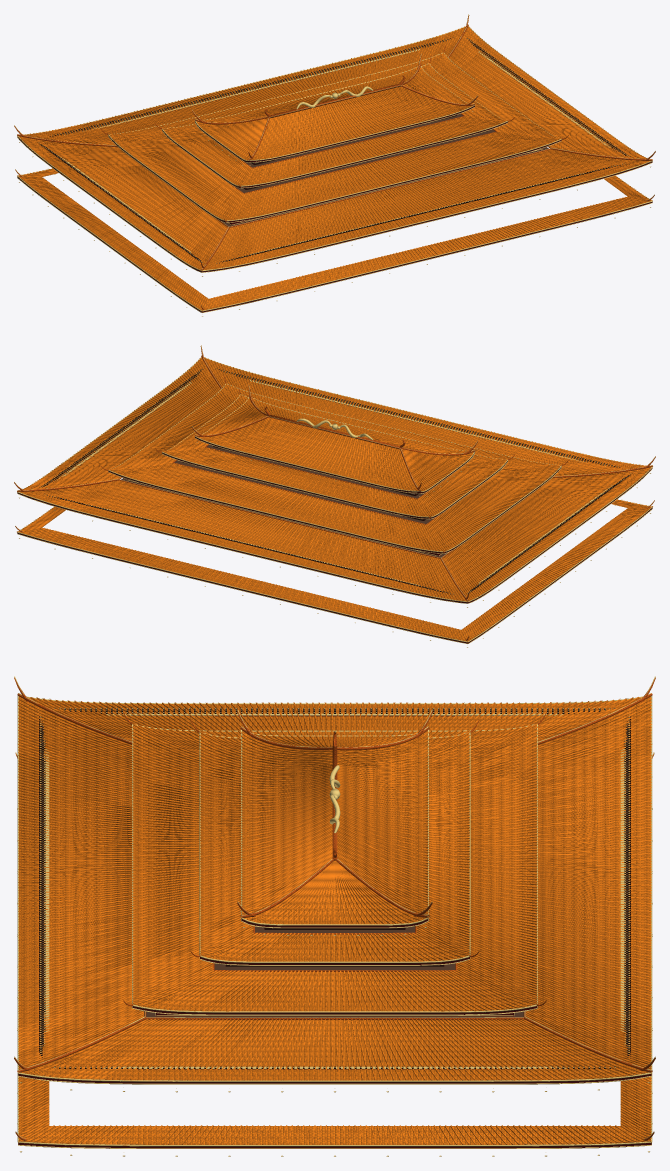
The picture shows the model from 3 angles, top to bottom: view 1: azimuth 30°, elevation 25°; view 2: azimuth 150°, elevation 25°; view 3: azimuth 270°, elevation 25°; orthographic projection. The views are drawn at different scales.
Visible parts, largest first — view 1: vb-sanctuary-grand-roof__Round cover tile - orange glaze, vb-sanctuary-grand-roof__Glazed roof tile 0, vb-sanctuary-grand-roof__Glazed roof tile 3, vb-sanctuary-grand-roof__Glazed roof tile 1, vb-sanctuary-grand-roof__Glazed roof tile 2, vb-sanctuary-grand-roof__Gold leaf, vb-sanctuary-grand-roof__Lim wood - deep umber, vb-sanctuary-grand-roof__Lacquer - imperial oxblood, vb-sanctuary-grand-roof__Ridge tile - deep orange glaze, vb-sanctuary-grand-roof__Roof underside - smoked timber; view 2: vb-sanctuary-grand-roof__Round cover tile - orange glaze, vb-sanctuary-grand-roof__Glazed roof tile 3, vb-sanctuary-grand-roof__Glazed roof tile 2, vb-sanctuary-grand-roof__Glazed roof tile 0, vb-sanctuary-grand-roof__Glazed roof tile 1, vb-sanctuary-grand-roof__Gold leaf, vb-sanctuary-grand-roof__Lim wood - deep umber, vb-sanctuary-grand-roof__Lacquer - imperial oxblood, vb-sanctuary-grand-roof__Ridge tile - deep orange glaze, vb-sanctuary-grand-roof__Roof underside - smoked timber; view 3: vb-sanctuary-grand-roof__Round cover tile - orange glaze, vb-sanctuary-grand-roof__Glazed roof tile 0, vb-sanctuary-grand-roof__Glazed roof tile 3, vb-sanctuary-grand-roof__Glazed roof tile 1, vb-sanctuary-grand-roof__Glazed roof tile 2, vb-sanctuary-grand-roof__Gold leaf, vb-sanctuary-grand-roof__Lim wood - deep umber, vb-sanctuary-grand-roof__Lacquer - imperial oxblood, vb-sanctuary-grand-roof__Ridge tile - deep orange glaze, vb-sanctuary-grand-roof__Roof underside - smoked timber.
Boxes of the visible parts, x1,y1,x2,y2 form: vb-sanctuary-grand-roof__Round cover tile - orange glaze: (17, 26, 652, 311); vb-sanctuary-grand-roof__Glazed roof tile 0: (19, 26, 648, 309); vb-sanctuary-grand-roof__Glazed roof tile 3: (24, 31, 650, 310); vb-sanctuary-grand-roof__Glazed roof tile 1: (18, 29, 646, 309); vb-sanctuary-grand-roof__Glazed roof tile 2: (23, 27, 646, 307); vb-sanctuary-grand-roof__Gold leaf: (14, 14, 655, 312); vb-sanctuary-grand-roof__Lim wood - deep umber: (18, 37, 652, 311); vb-sanctuary-grand-roof__Lacquer - imperial oxblood: (17, 58, 652, 312); vb-sanctuary-grand-roof__Ridge tile - deep orange glaze: (14, 15, 655, 309); vb-sanctuary-grand-roof__Roof underside - smoked timber: (223, 114, 548, 226); vb-sanctuary-grand-roof__Round cover tile - orange glaze: (17, 357, 652, 641); vb-sanctuary-grand-roof__Glazed roof tile 3: (21, 358, 647, 640); vb-sanctuary-grand-roof__Glazed roof tile 2: (20, 360, 651, 641); vb-sanctuary-grand-roof__Glazed roof tile 0: (29, 364, 643, 641); vb-sanctuary-grand-roof__Glazed roof tile 1: (23, 357, 650, 638); vb-sanctuary-grand-roof__Gold leaf: (14, 345, 655, 643); vb-sanctuary-grand-roof__Lim wood - deep umber: (17, 368, 651, 642); vb-sanctuary-grand-roof__Lacquer - imperial oxblood: (17, 388, 652, 643); vb-sanctuary-grand-roof__Ridge tile - deep orange glaze: (14, 345, 655, 640); vb-sanctuary-grand-roof__Roof underside - smoked timber: (121, 445, 447, 557); vb-sanctuary-grand-roof__Round cover tile - orange glaze: (18, 696, 651, 1144); vb-sanctuary-grand-roof__Glazed roof tile 0: (19, 696, 650, 1144); vb-sanctuary-grand-roof__Glazed roof tile 3: (19, 696, 650, 1144); vb-sanctuary-grand-roof__Glazed roof tile 1: (19, 698, 650, 1144); vb-sanctuary-grand-roof__Glazed roof tile 2: (19, 698, 650, 1145); vb-sanctuary-grand-roof__Gold leaf: (14, 676, 655, 1156); vb-sanctuary-grand-roof__Lim wood - deep umber: (18, 708, 650, 1146); vb-sanctuary-grand-roof__Lacquer - imperial oxblood: (18, 715, 651, 1148); vb-sanctuary-grand-roof__Ridge tile - deep orange glaze: (14, 677, 655, 1140); vb-sanctuary-grand-roof__Roof underside - smoked timber: (146, 926, 523, 1017).
Bounding box in the file's own units: 695 × 153 × 495.
11 materials, 8 textured.
